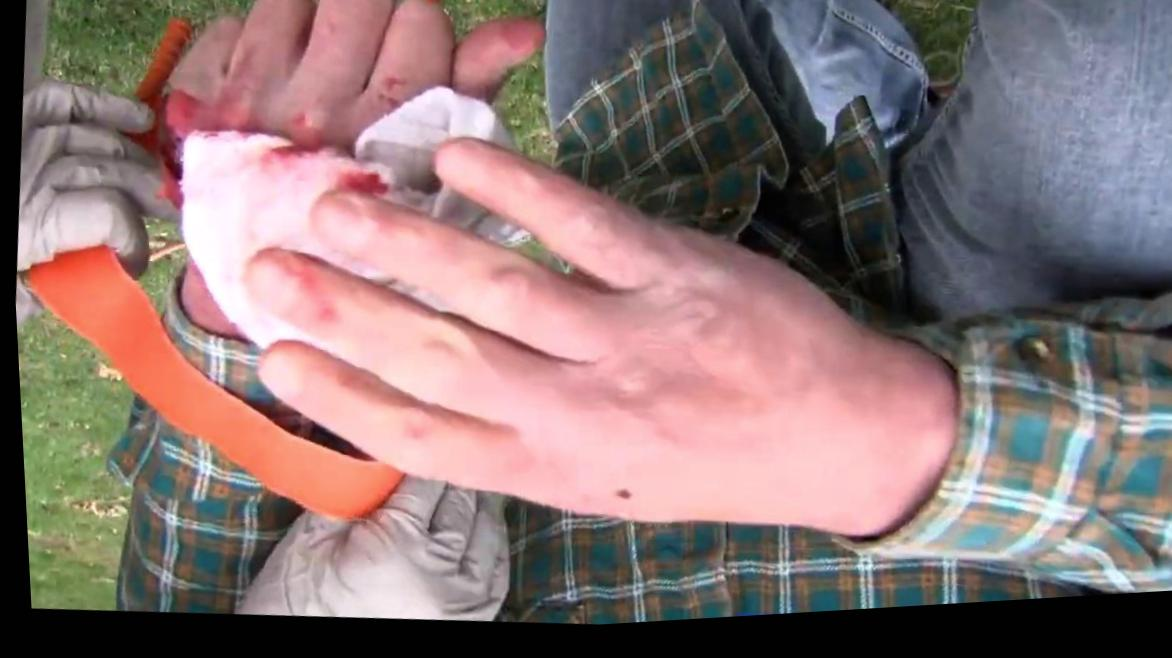Fire: (138, 91, 252, 212), (269, 117, 324, 167), (335, 177, 385, 200)
